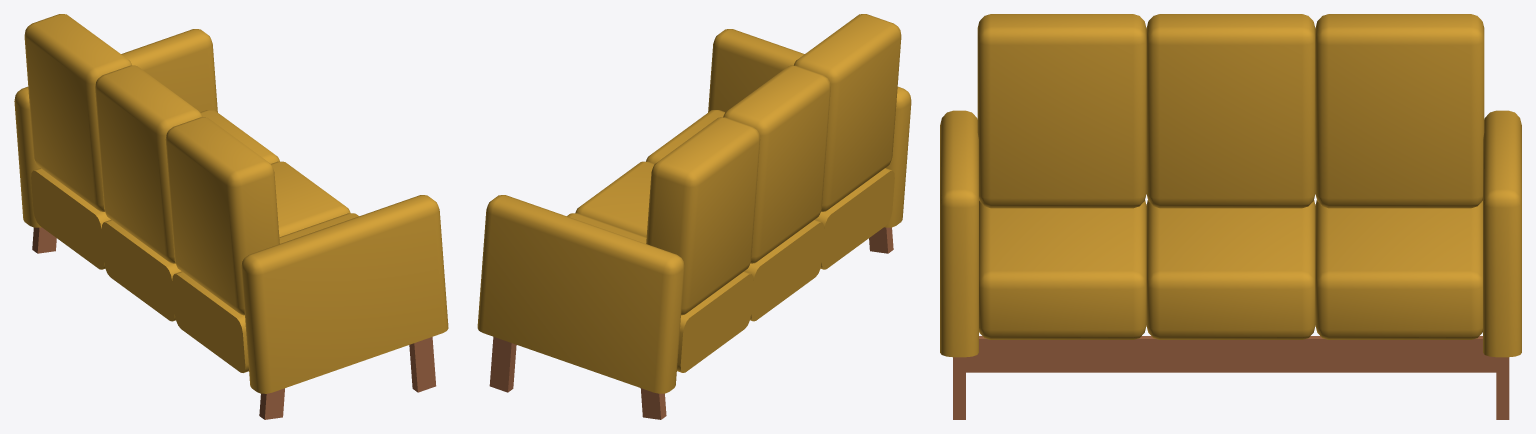
The model's file is 01_Couch.fbx.
3 views of the same model, side by side, from view 1: azimuth 30°, elevation 25°; view 2: azimuth 150°, elevation 25°; view 3: azimuth 270°, elevation 25° (orthographic). The views are drawn at different scales.
Parts seen in each view (by area): view 1: Cube.092; view 2: Cube.092; view 3: Cube.092.
Part boxes in pixels (bbox=[...]): Cube.092: bbox=[14, 14, 448, 419]; Cube.092: bbox=[477, 14, 911, 419]; Cube.092: bbox=[940, 14, 1521, 419].
Bounding box in the file's own units: 50.97 × 60.37 × 105.
